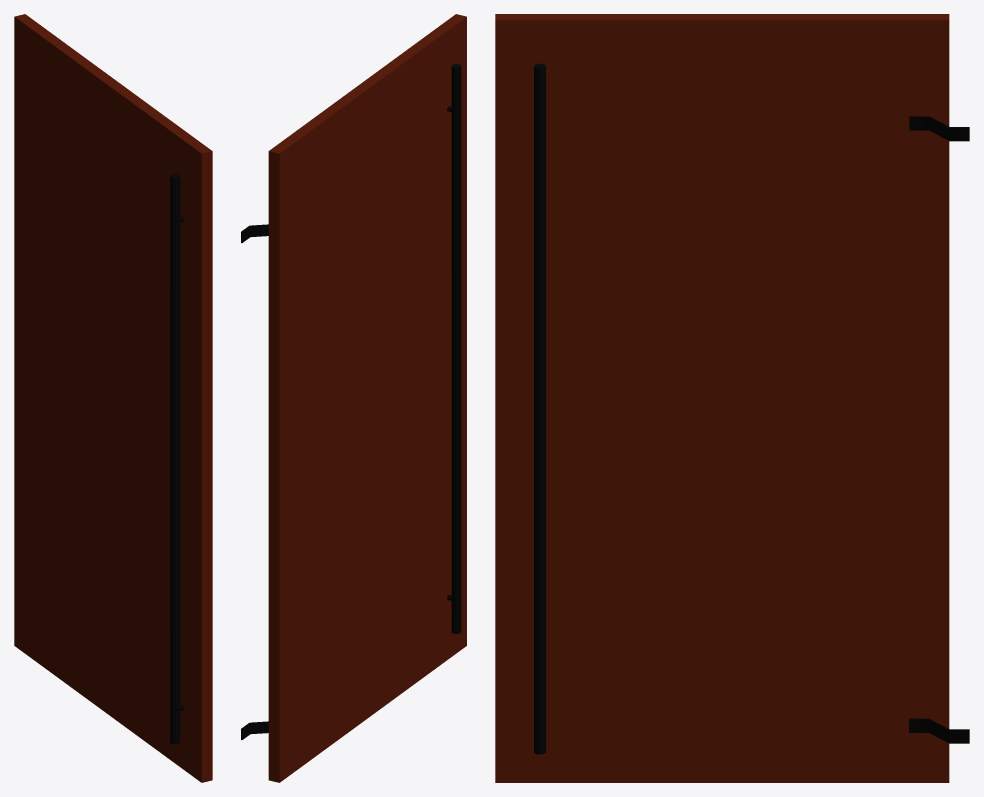
The model's file is Doorrechts.FBX.
The picture shows the model from 3 angles, left to right: view 1: azimuth 30°, elevation 25°; view 2: azimuth 150°, elevation 25°; view 3: azimuth 270°, elevation 25°; orthographic projection. The views are drawn at different scales.
Visible parts, largest first — view 1: Box035, Cylinder026; view 2: Box035, Cylinder026; view 3: Box035, Cylinder029, Box130, Box131.
Boxes of the visible parts, x1,y1,x2,y2 form: Box035: [14, 14, 212, 782]; Cylinder026: [170, 174, 180, 743]; Box035: [268, 14, 466, 782]; Cylinder026: [451, 64, 461, 633]; Box035: [495, 14, 949, 782]; Cylinder029: [534, 63, 545, 754]; Box130: [909, 116, 969, 141]; Box131: [909, 718, 969, 743].
Size of the model in its own units: 19.58 by 278 by 157.
